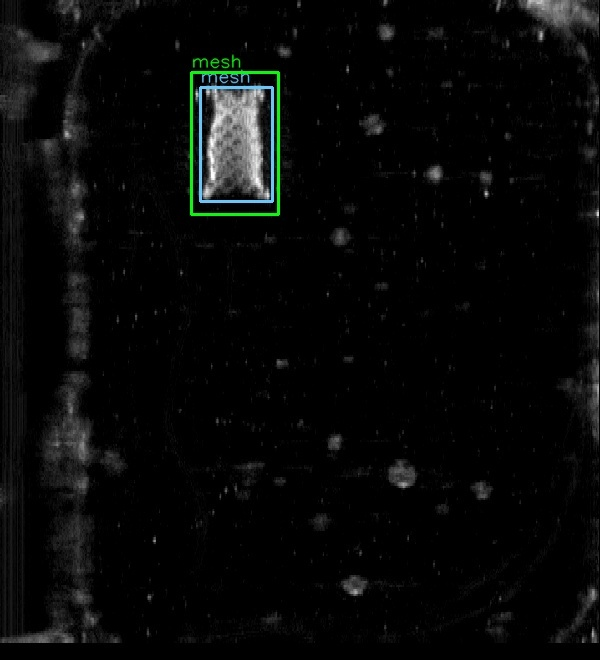mesh: (200, 87, 272, 201)
